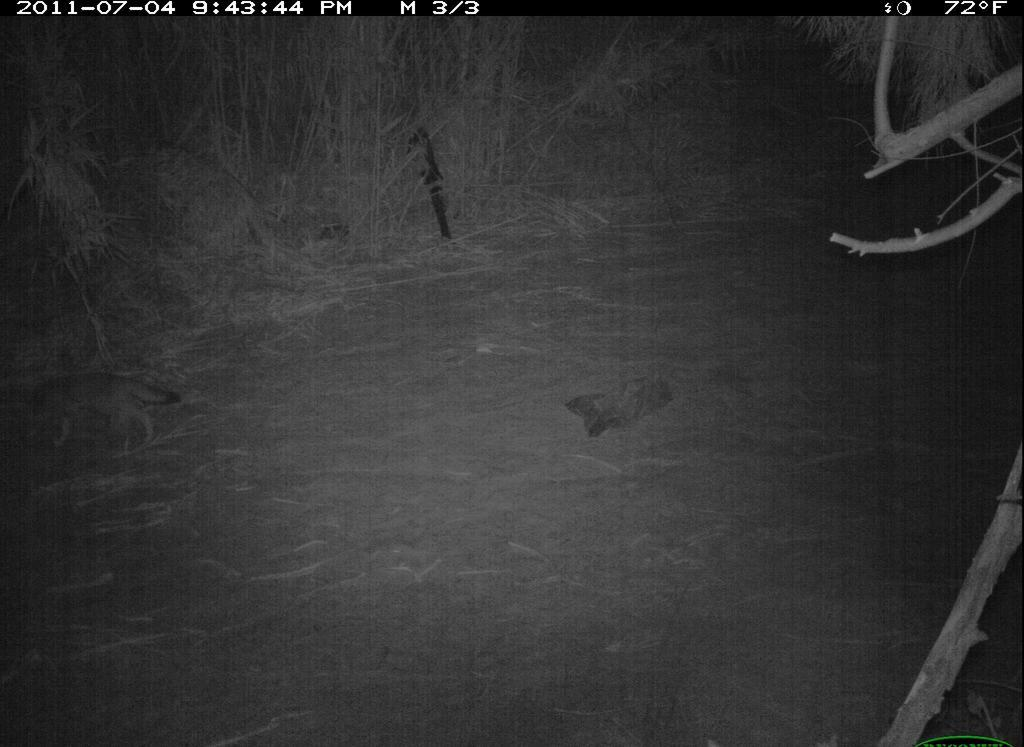coyote: (7, 349, 184, 466)
